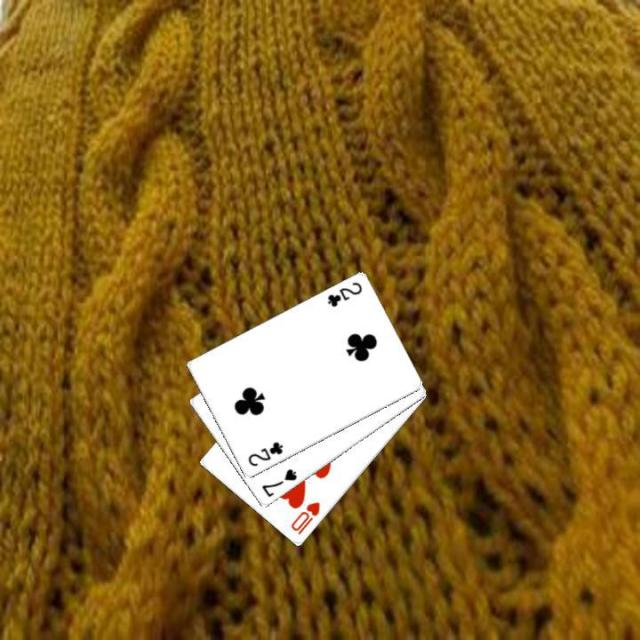10H: (287, 498, 322, 537)
2C: (324, 278, 364, 310), (243, 438, 284, 468)
7S: (258, 465, 298, 499)
